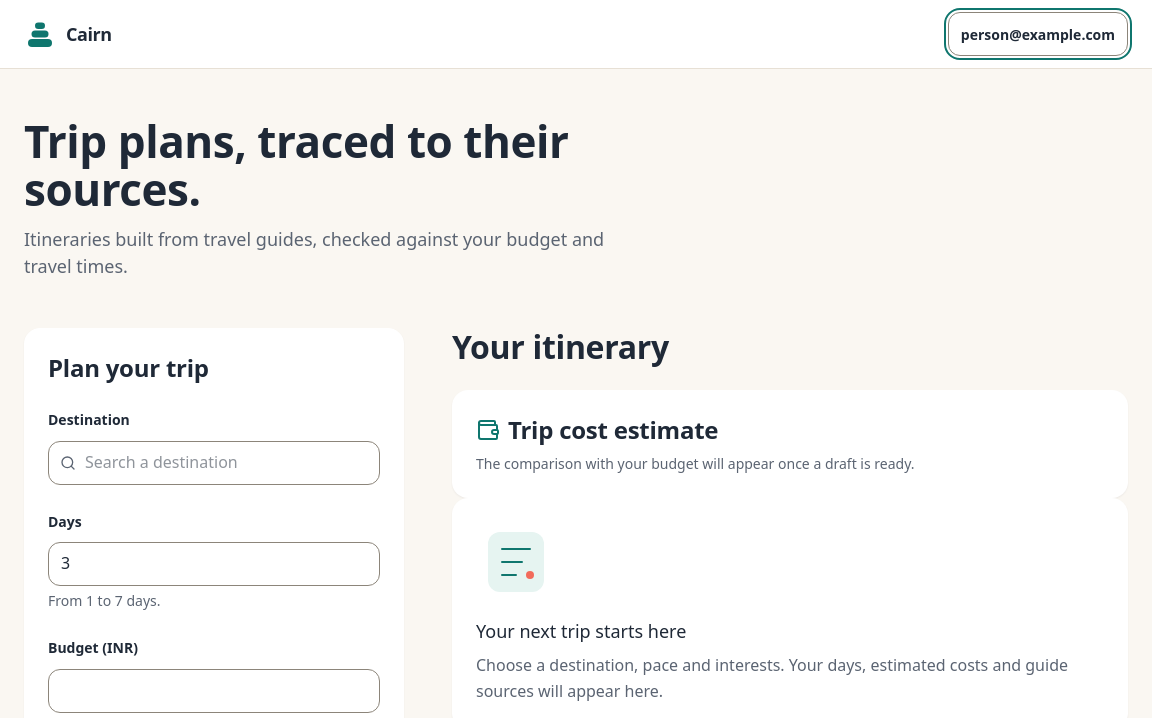
Scenario: account dialog › focuses and navigates the account menu, then restores focus on Escape
Expected: the dropdown labelled "Destination" is shown, 48,441 -> 380,485
Click the button "person@example.com": x=1038, y=34 948,12 -> 1128,56
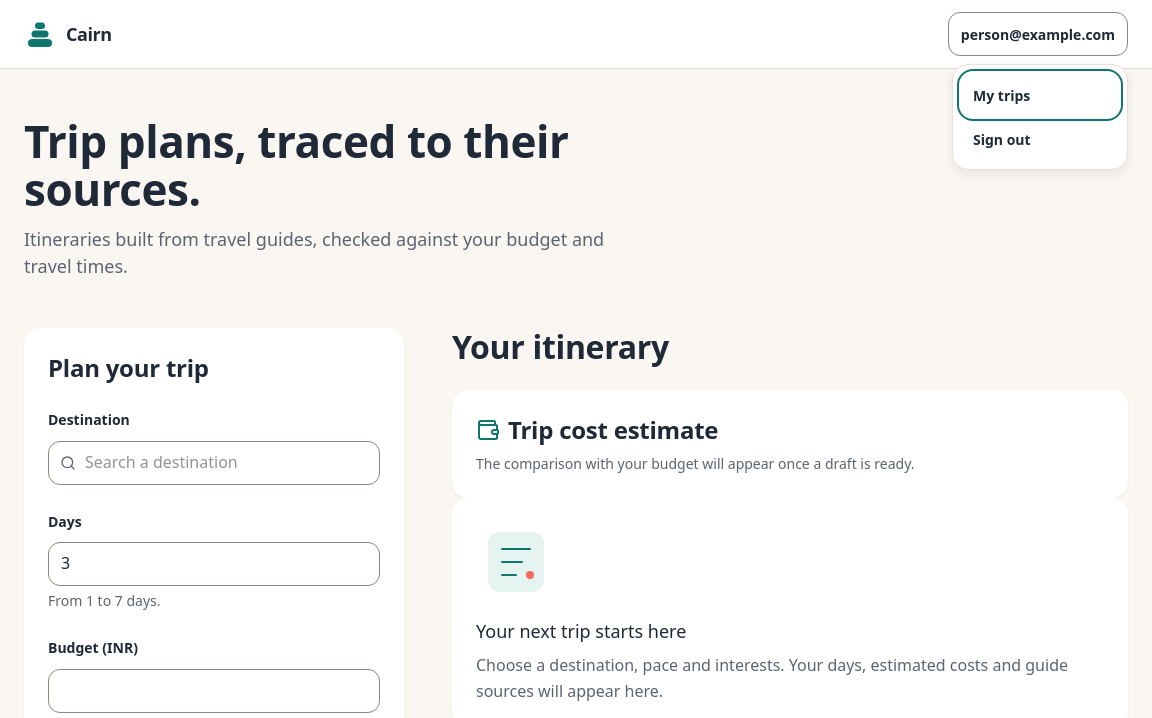
Press ArrowDown in the menu item "My trips", box 973,86 -> 1030,104
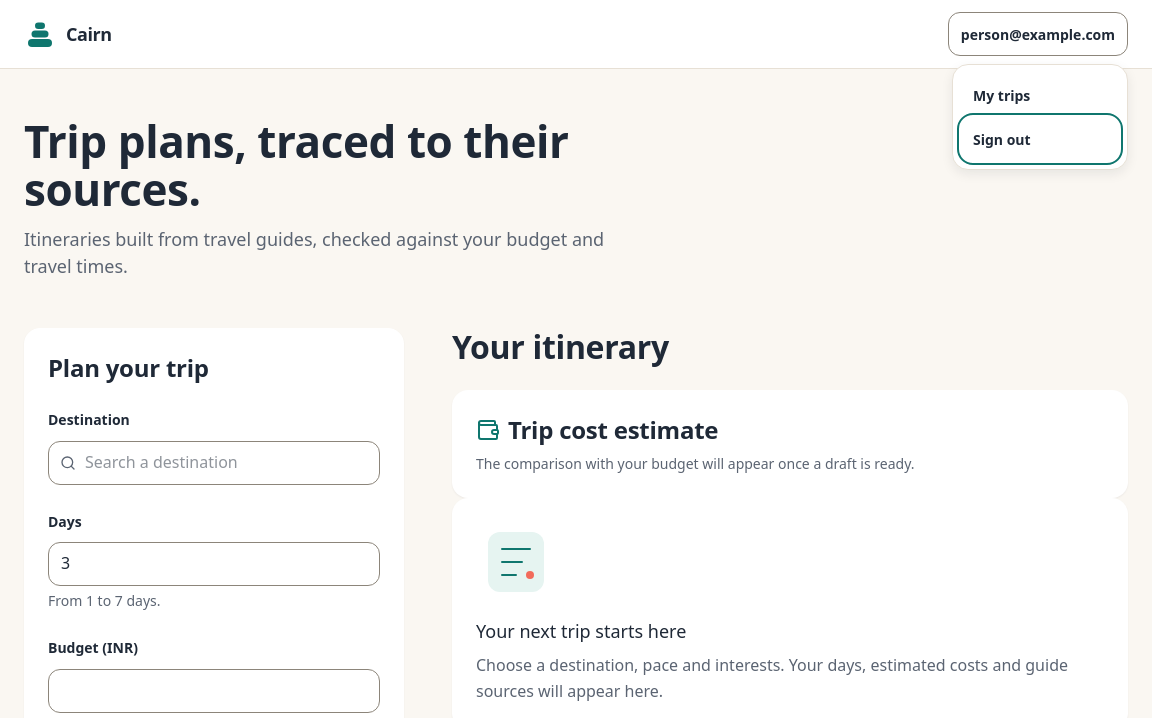
Press Escape in the menu item "Sign out", box 961,117 -> 1119,161
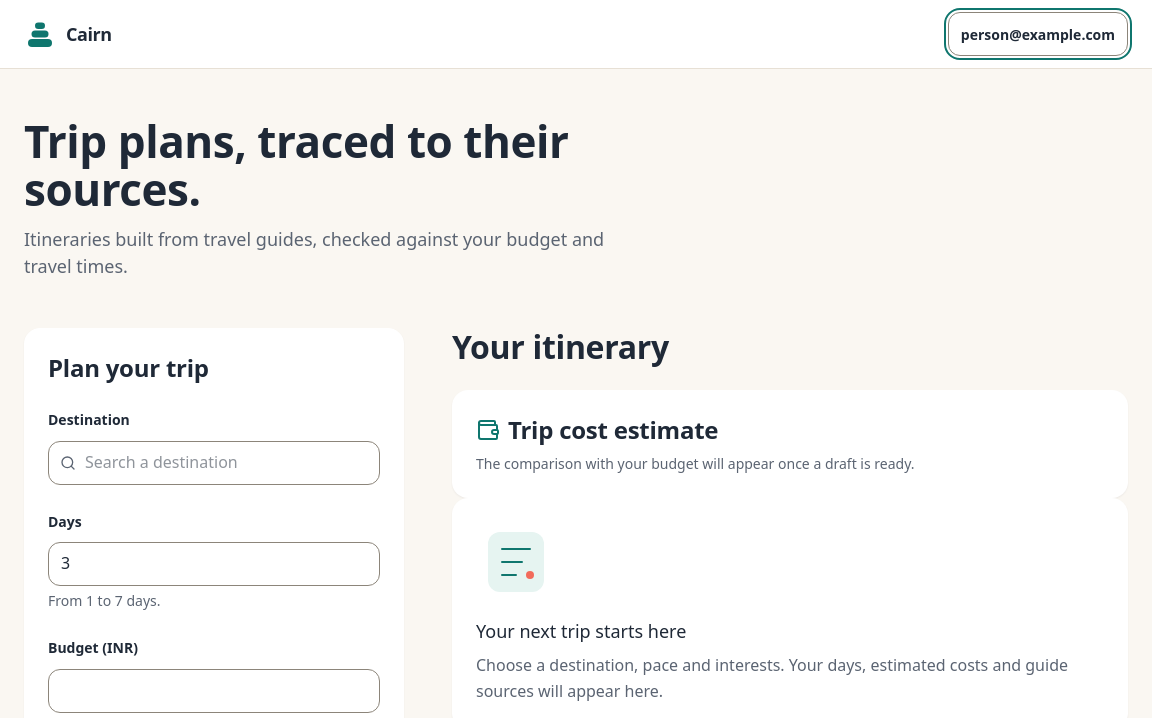
Result: the menu is gone
